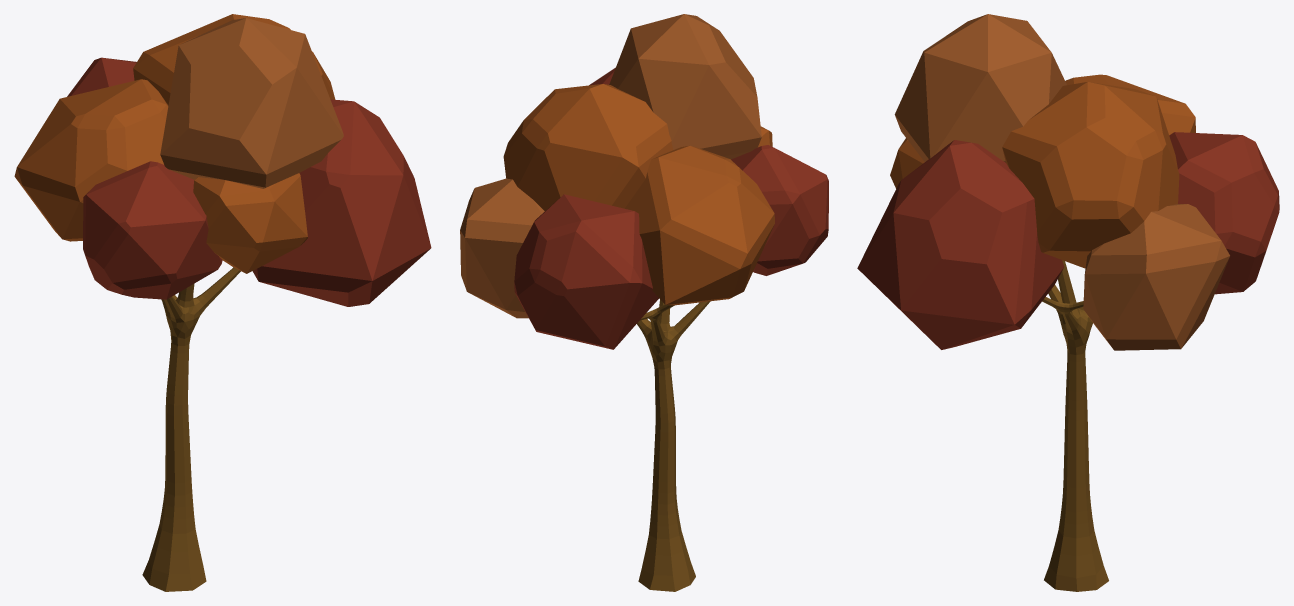
Rendered from small-tree-1.glb.
3 views of the same model, side by side, from view 1: azimuth 30°, elevation 25°; view 2: azimuth 150°, elevation 25°; view 3: azimuth 270°, elevation 25° (orthographic). The views are drawn at different scales.
Visible parts, largest first — view 1: Small Tree 1; view 2: Small Tree 1; view 3: Small Tree 1.
Boxes of the visible parts, bbox=[...] form: Small Tree 1: bbox=[14, 14, 431, 591]; Small Tree 1: bbox=[460, 14, 828, 591]; Small Tree 1: bbox=[857, 14, 1279, 591].
Size of the model in its own units: 8.93 by 15.89 by 10.51.
